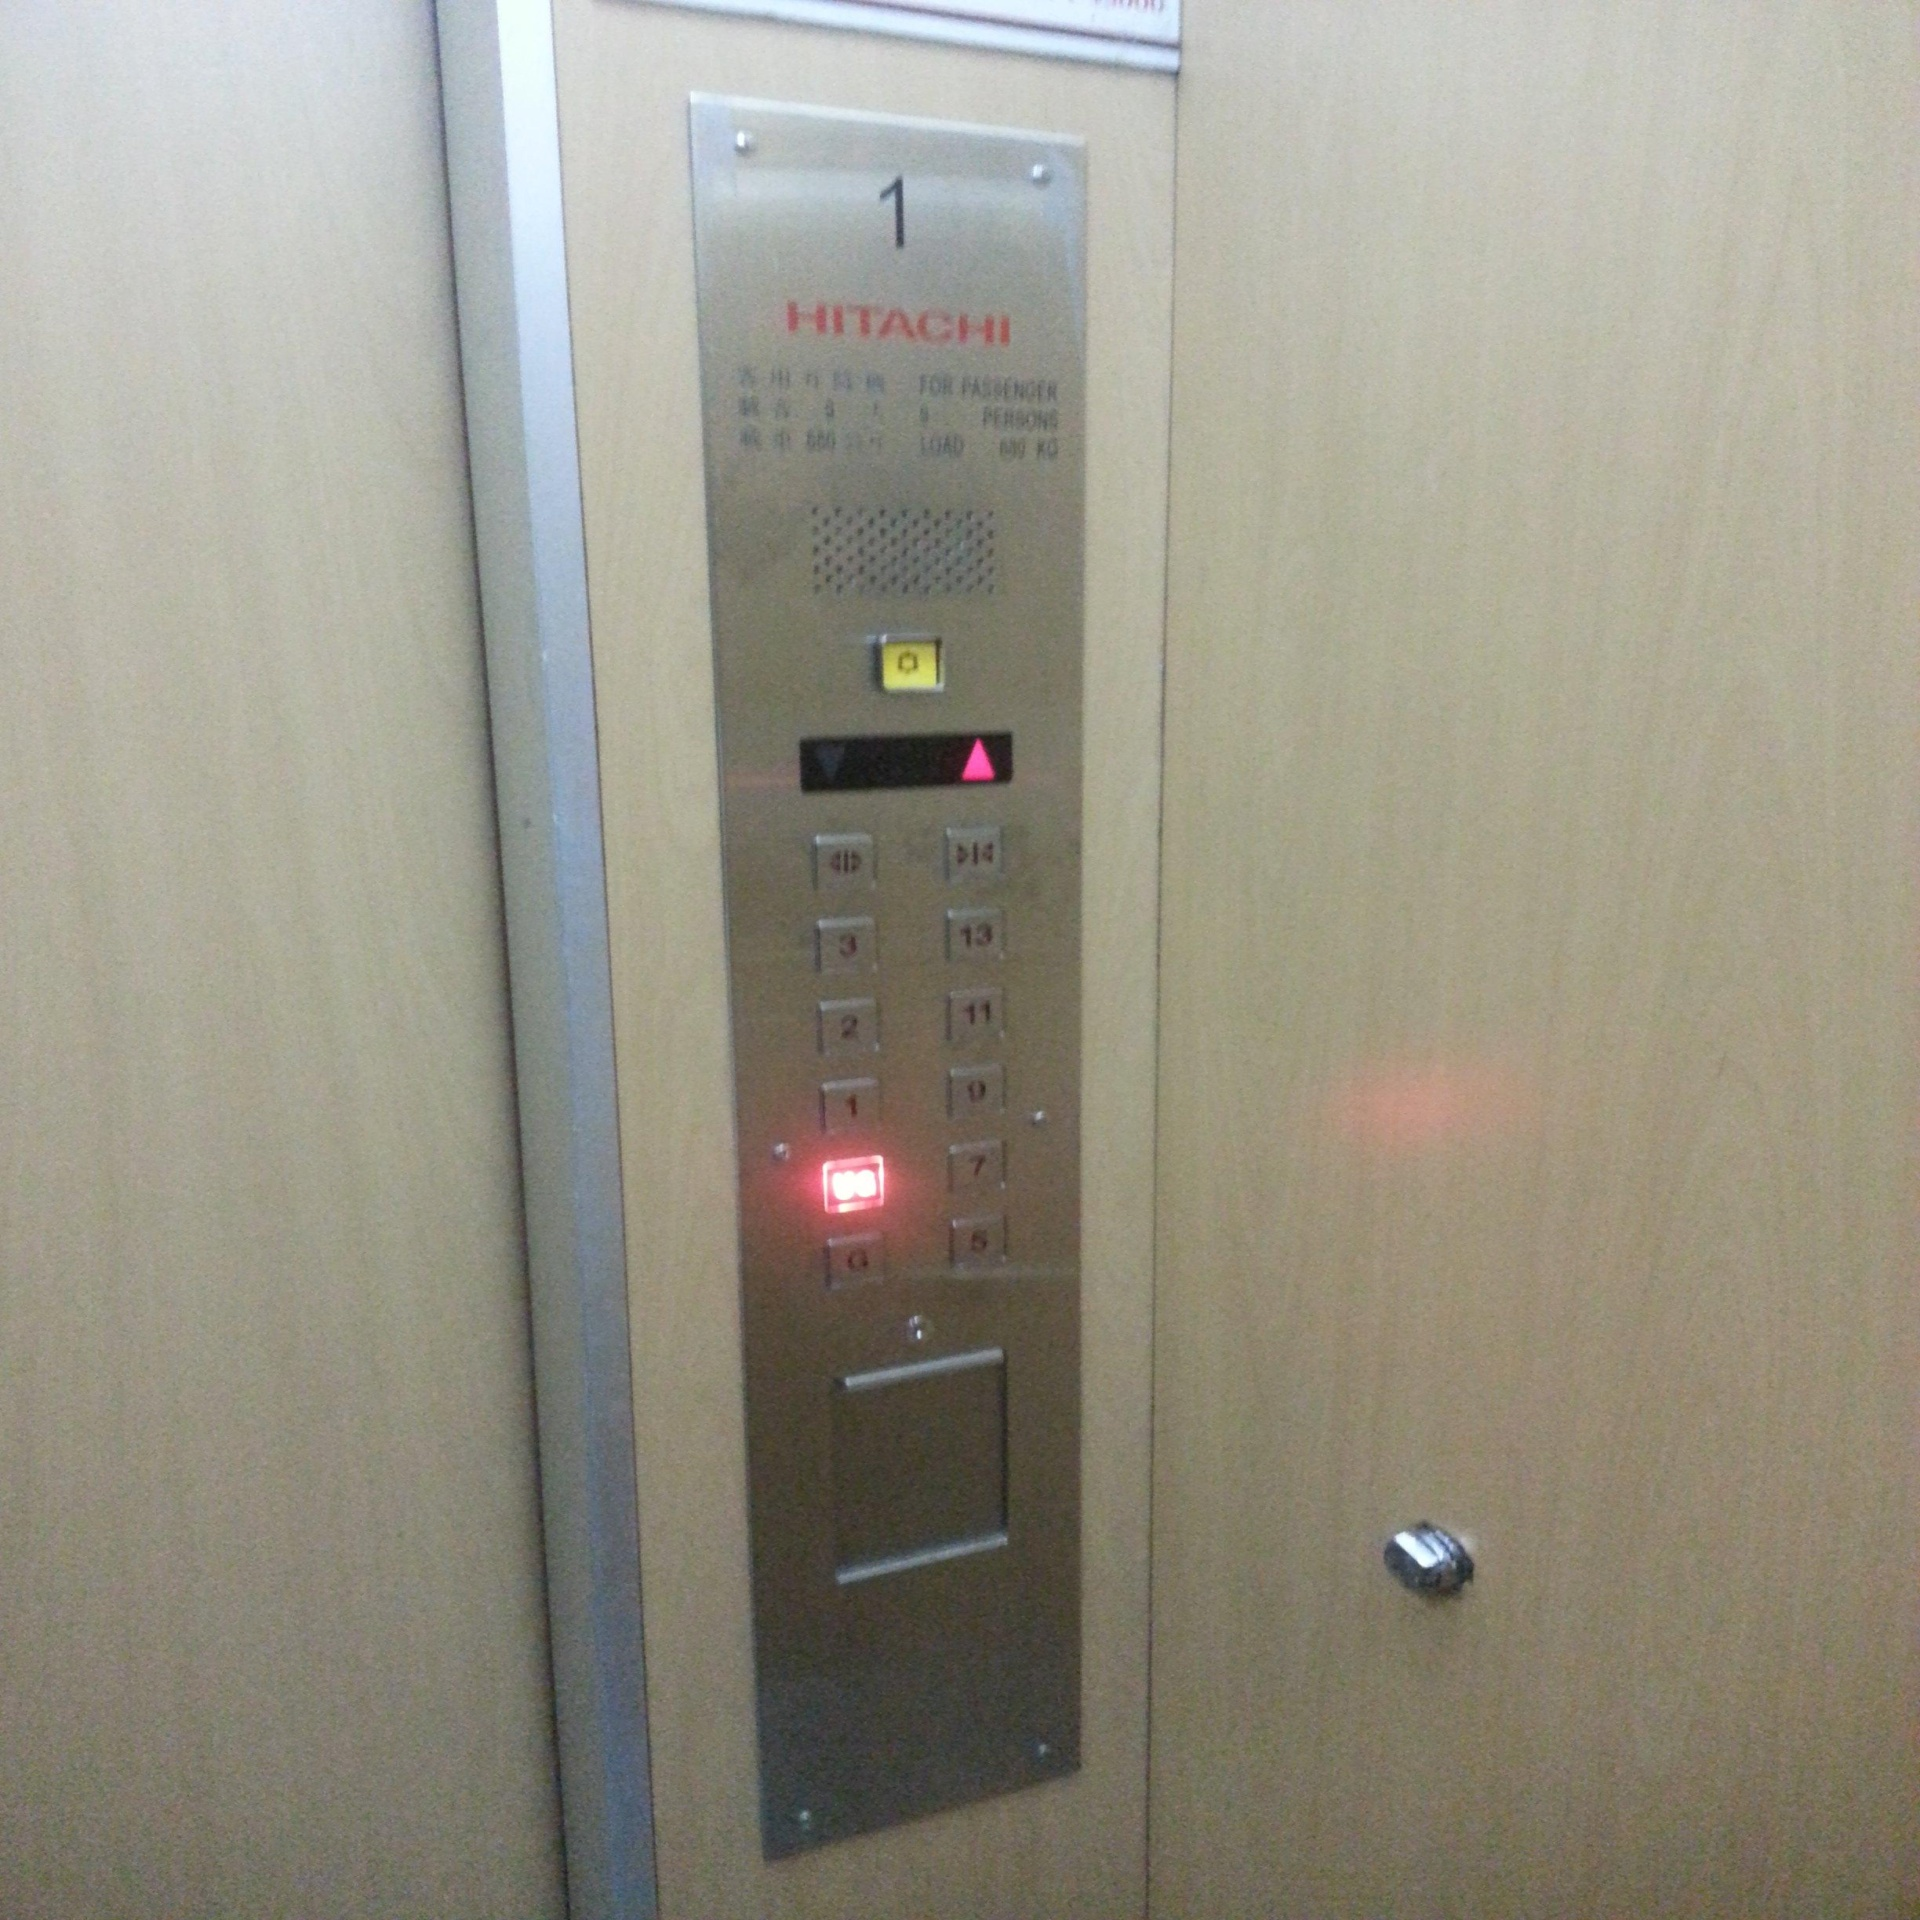1: (816, 1071, 891, 1143)
11: (942, 978, 1009, 1050)
13: (942, 905, 1013, 971)
2: (811, 992, 886, 1064)
3: (811, 914, 883, 985)
5: (948, 1206, 1011, 1278)
7: (944, 1136, 1007, 1199)
9: (942, 1060, 1007, 1125)
G: (818, 1229, 890, 1305)
UG: (819, 1148, 890, 1224)
alarm: (874, 628, 948, 703)
close: (939, 821, 1007, 888)
open: (809, 828, 883, 904)
